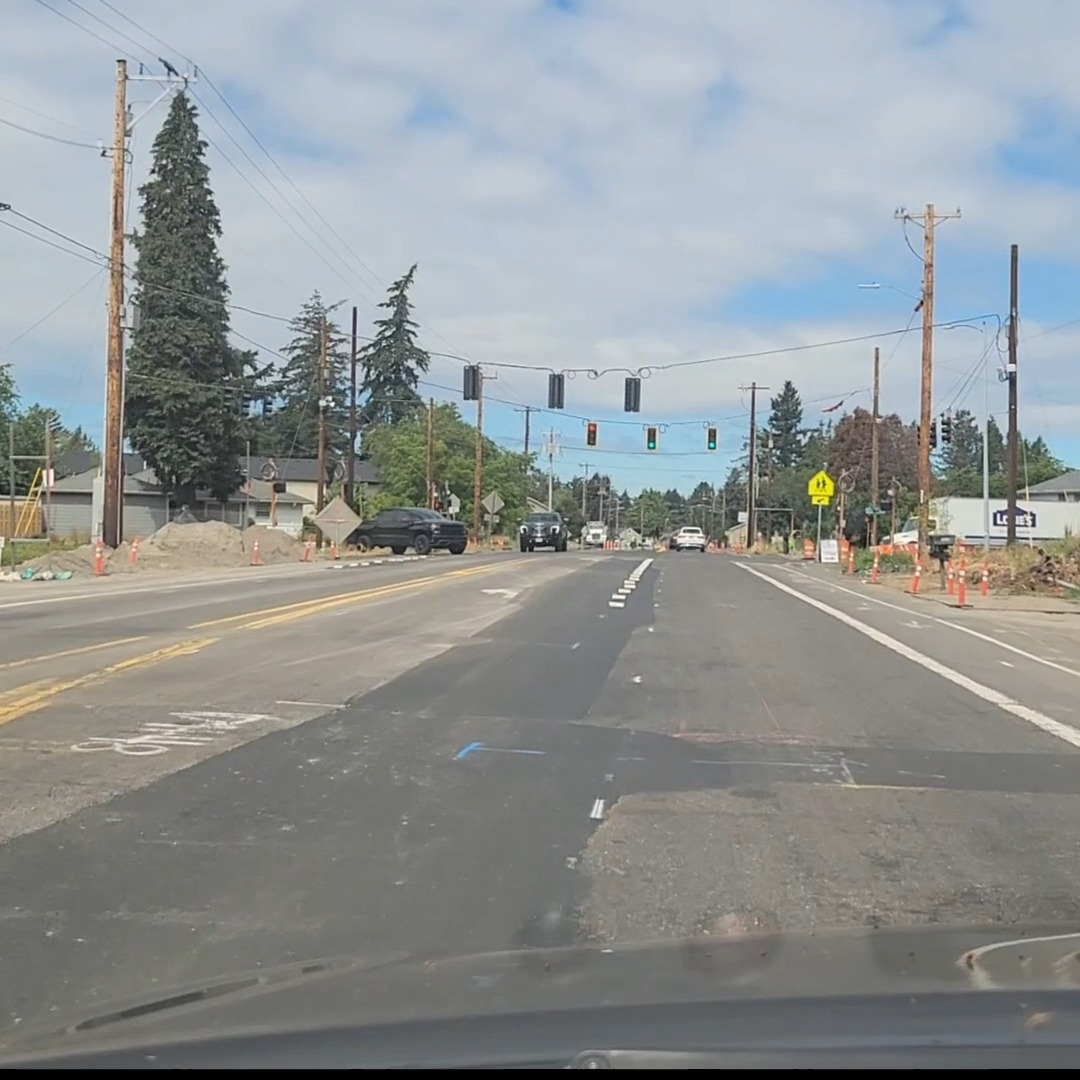car: (346, 507, 464, 555), (517, 511, 570, 551), (669, 526, 707, 552), (582, 520, 607, 548)
crosswalk-sign: (807, 471, 834, 506)
delineator: (93, 539, 105, 575), (869, 547, 881, 581), (907, 566, 921, 594), (956, 567, 966, 605), (128, 536, 141, 564), (250, 538, 262, 565), (946, 563, 955, 594), (302, 539, 314, 562), (979, 568, 988, 595), (847, 548, 855, 573), (329, 539, 337, 560)
